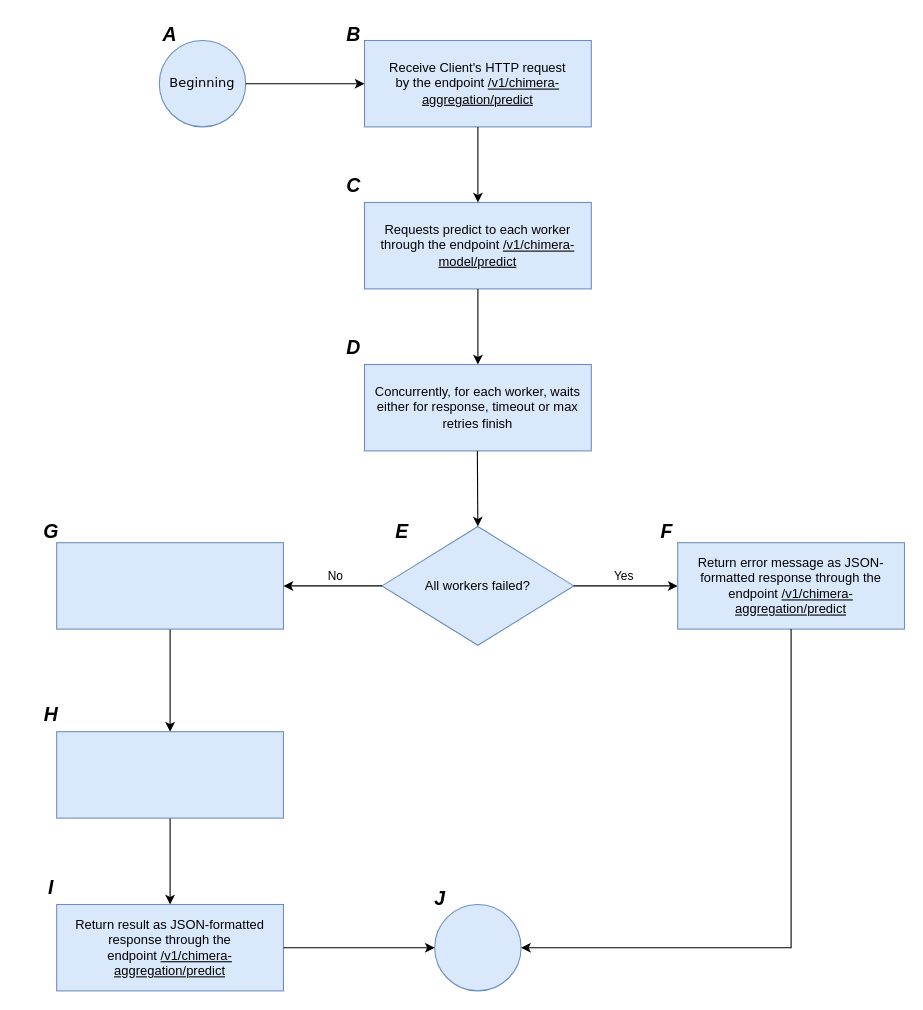
Image size: 923x1010. Some labels were removed from this diagram. Here are the shapes that lost their labels. From the top down, the centre of each, then its label:
(170,585): Receive the results from the responsive workers (status code 200)
(170,774): Aggregate results by calculating the arithmetic mean
(477,947): End
